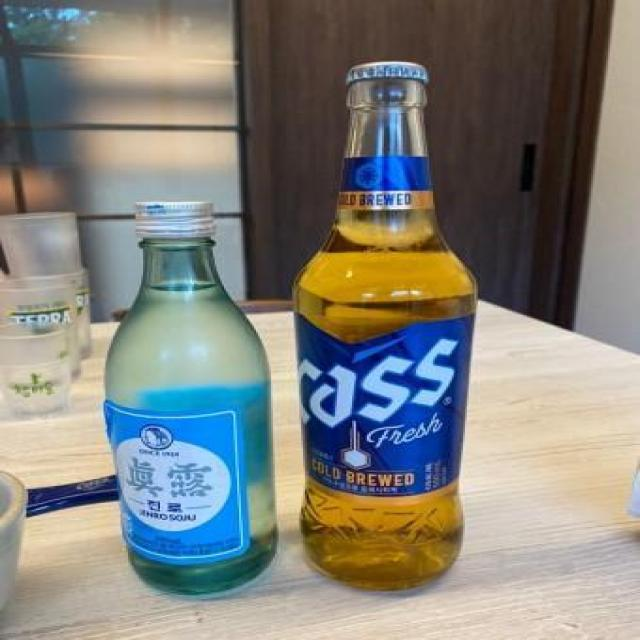beer-bottle: (301, 40, 484, 607)
soju-bottle: (70, 190, 294, 618)
